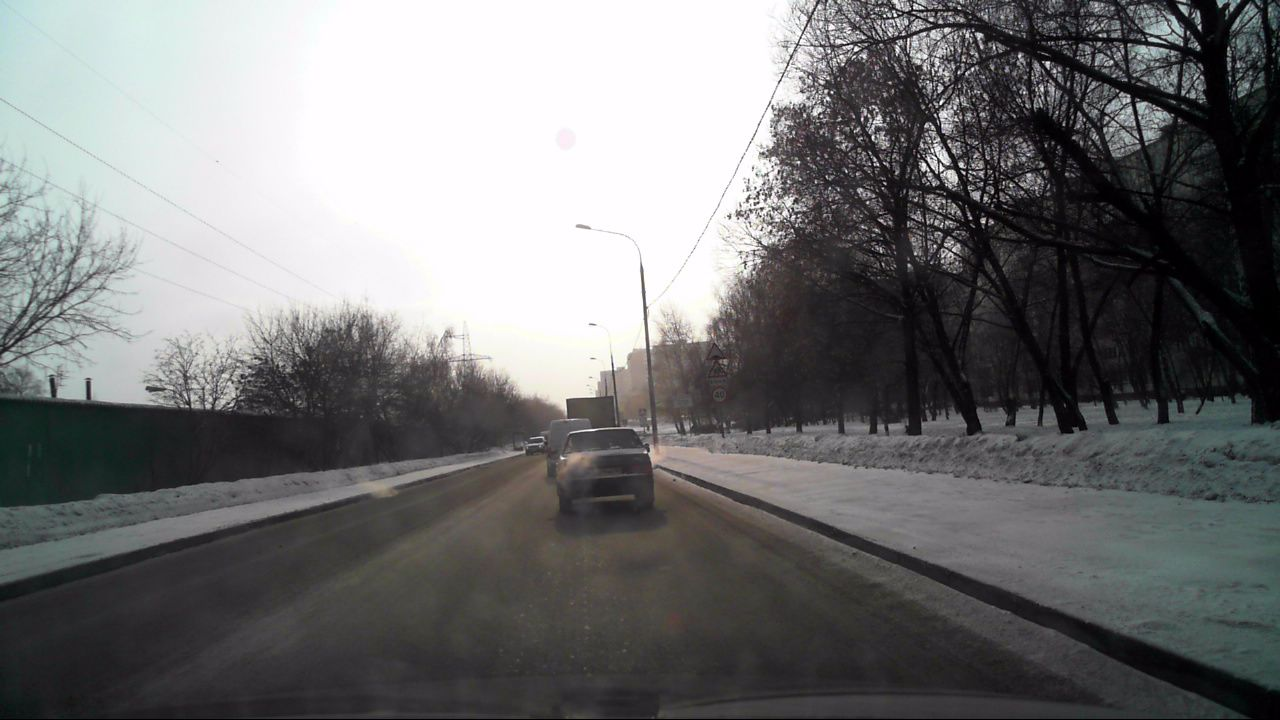speed_warning_40: (711, 385, 728, 402)
